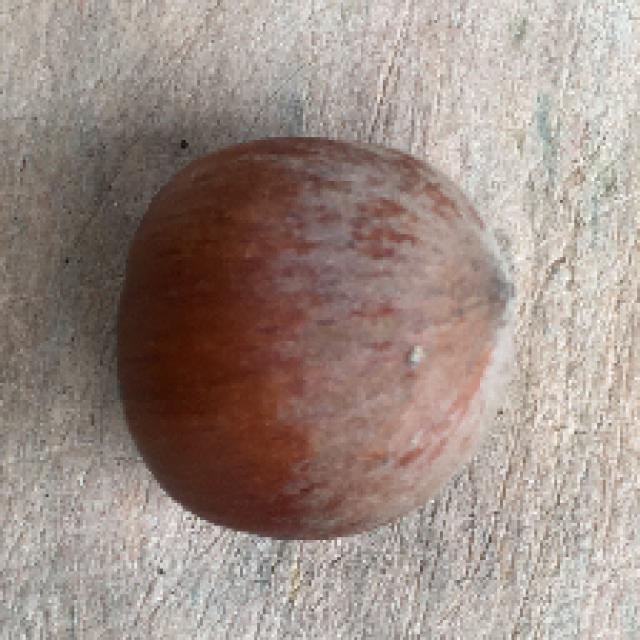qualityHazelnut: (113, 133, 520, 542)
